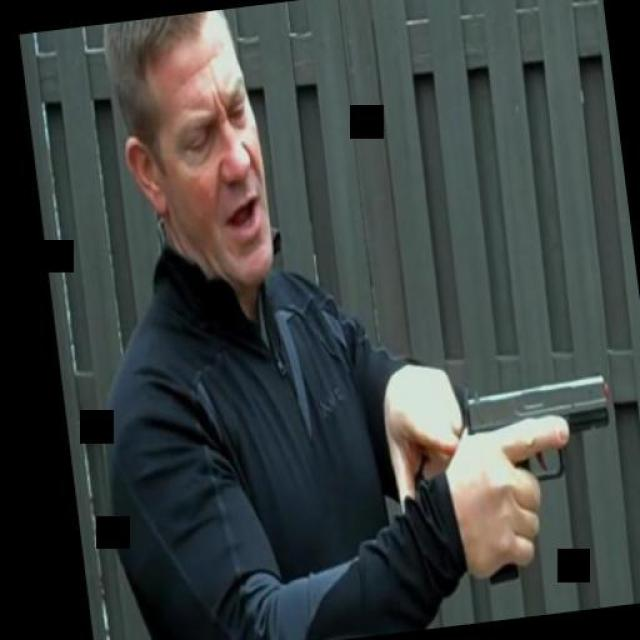gun: (455, 364, 631, 581)
